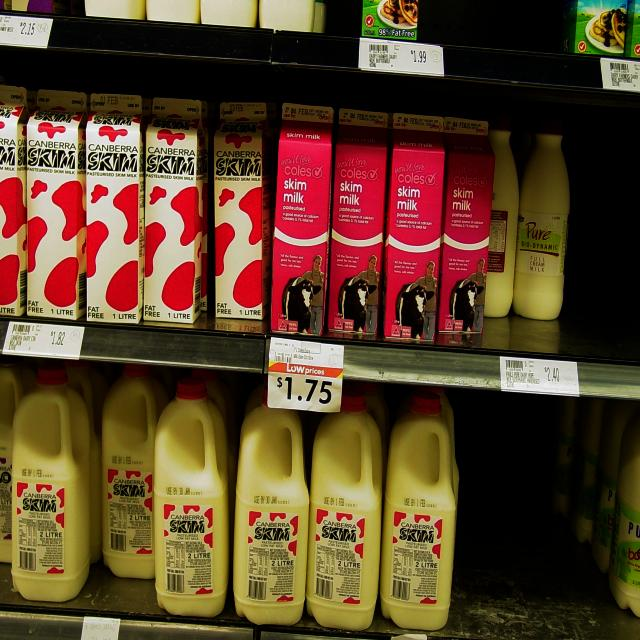empty_space: (462, 400, 558, 624), (570, 122, 640, 322), (428, 4, 554, 37), (330, 3, 355, 29)
